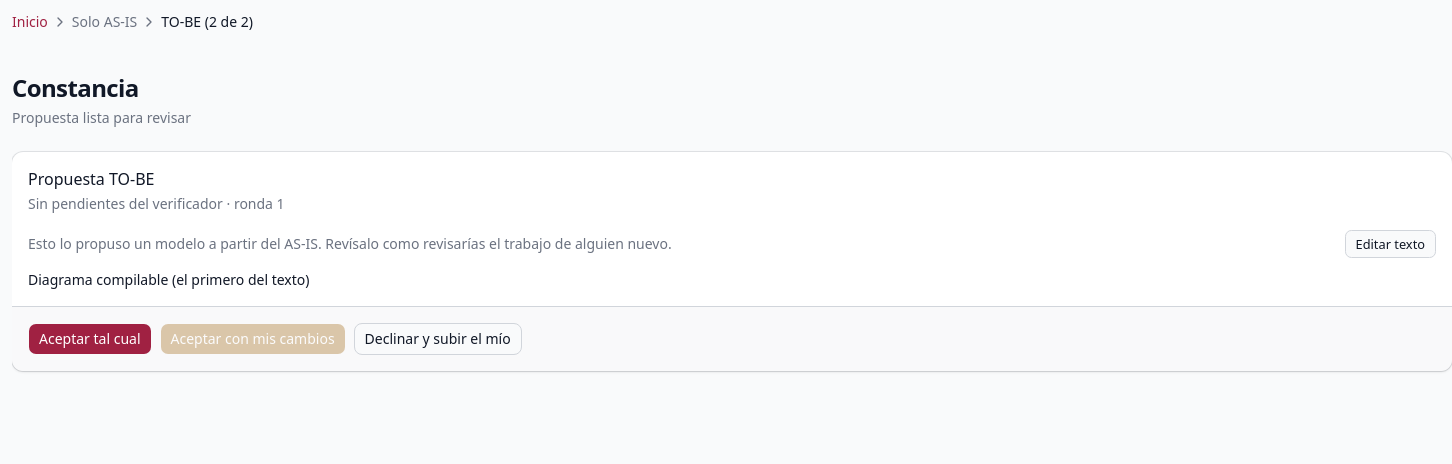
Scenario: 422 con los dos resueltos: muestra las dos zonas de carga
Click the button "Aceptar tal cual": (90, 339) x1=28 y1=323 x2=152 y2=355
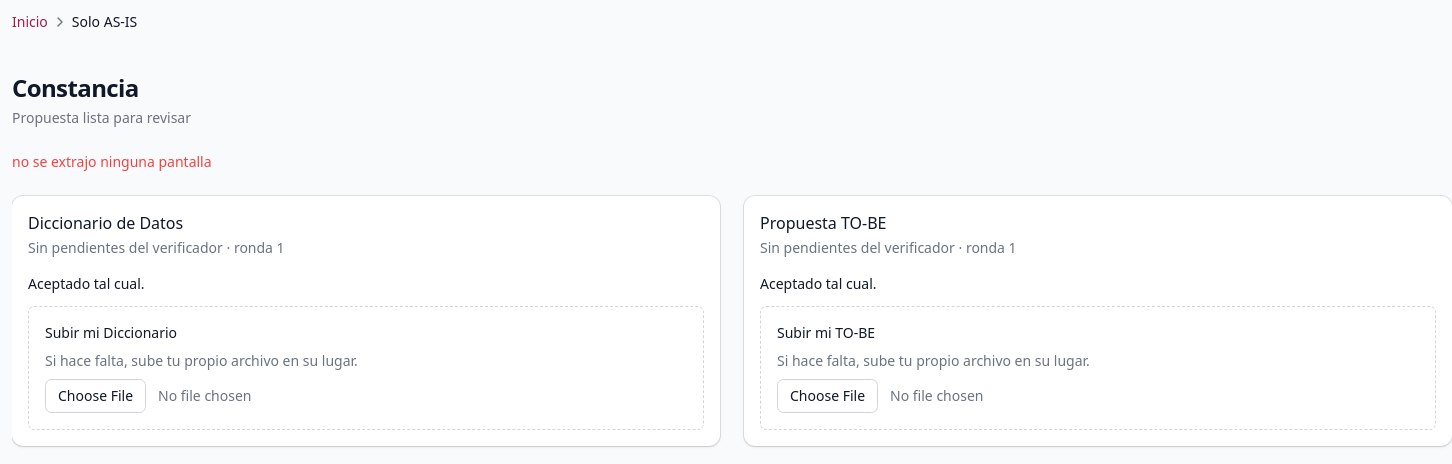
Expected: the message reads "no se extrajo ninguna pantalla", x1=12 y1=152 x2=212 y2=171
Expected: the file field labelled "Subir mi Diccionario" is shown, x1=45 y1=379 x2=687 y2=413
Expected: the file field labelled "Subir mi TO-BE" is shown, x1=777 y1=379 x2=1419 y2=413
